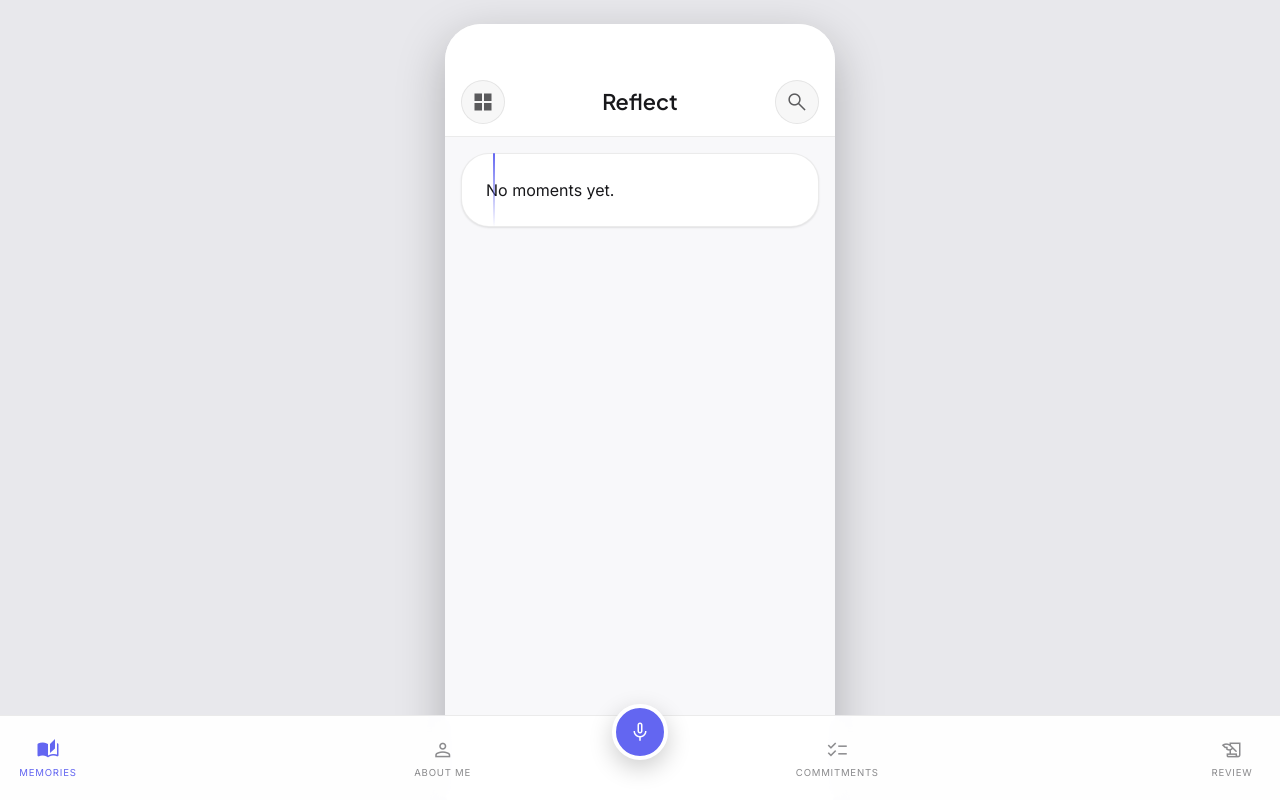
Test: Reflect surface › shows empty goals state
Note: Goals is now a sub-tab under Commitments
Click the link "Commitments" at x=837, y=759, box [805, 738, 869, 780]
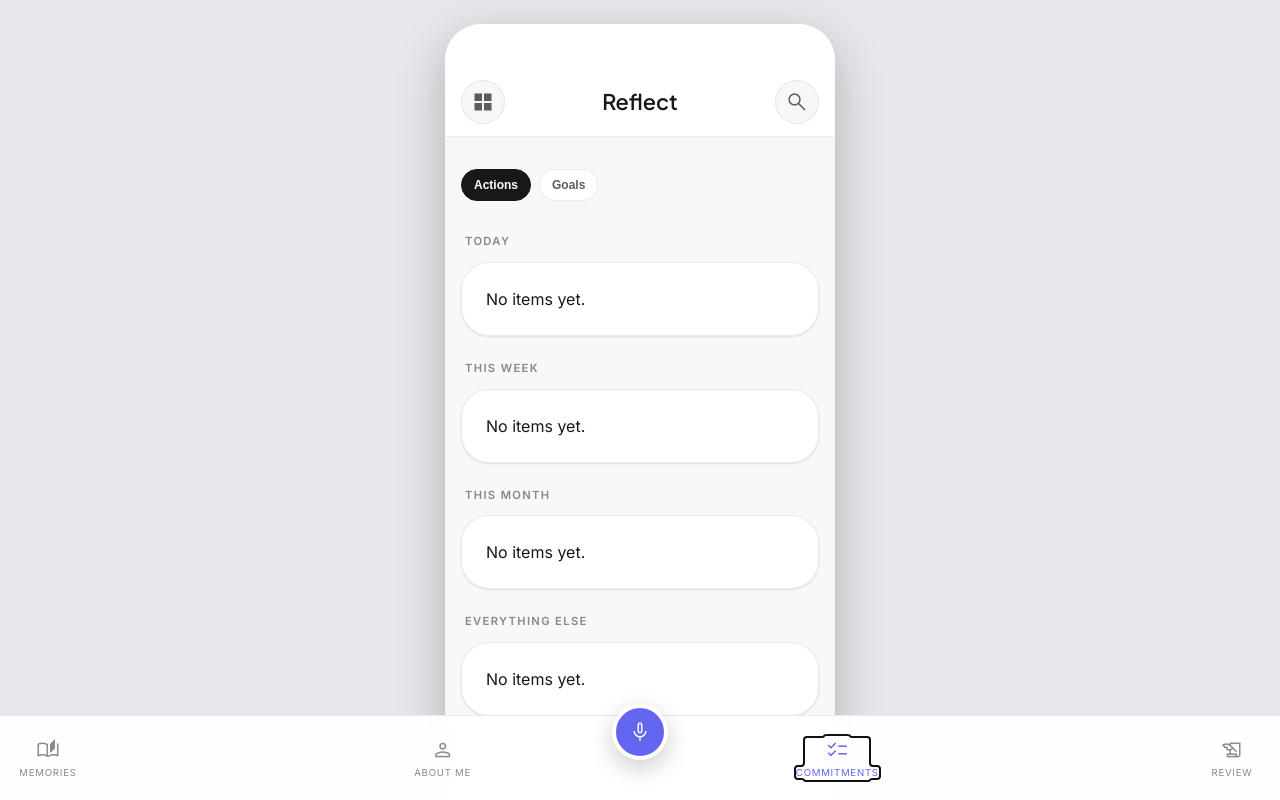
Click the button "Goals" at x=569, y=185, box [539, 169, 598, 201]
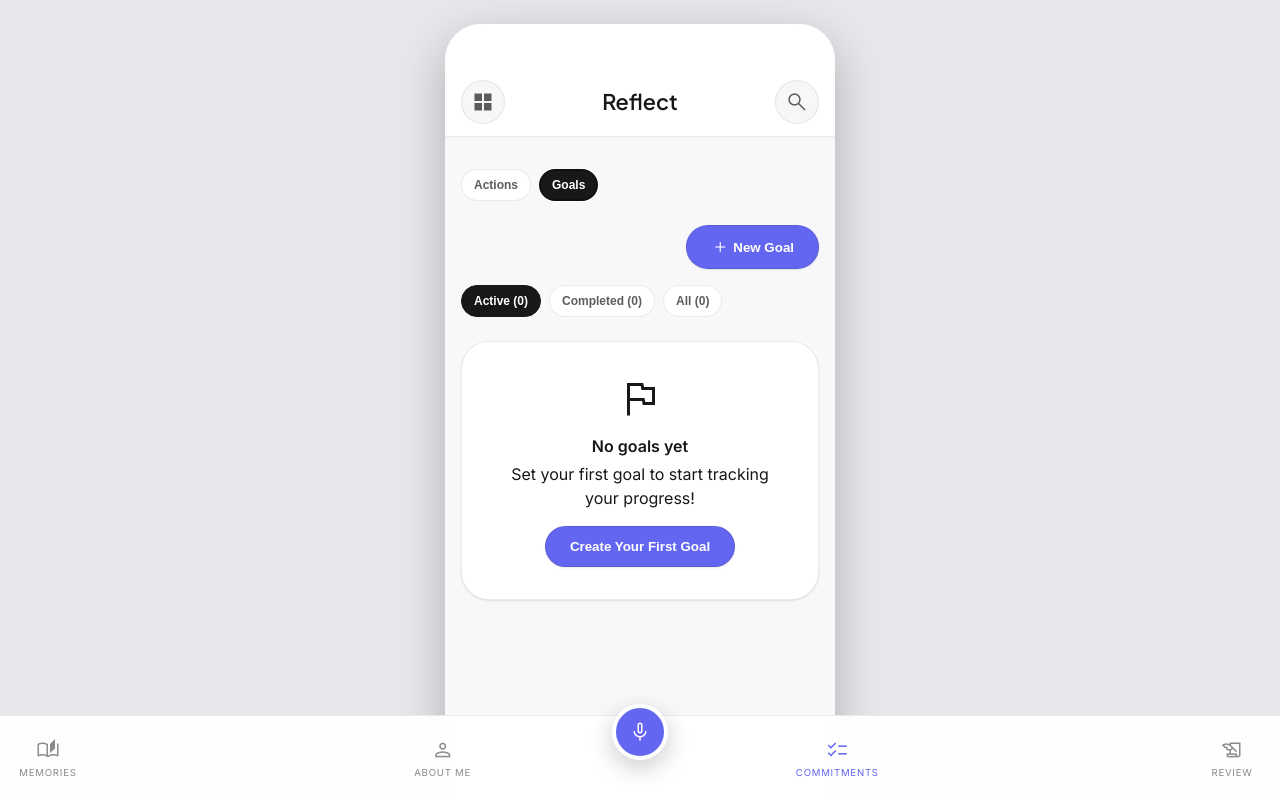
Now the text "No goals yet" is shown, box [592, 436, 688, 456]
